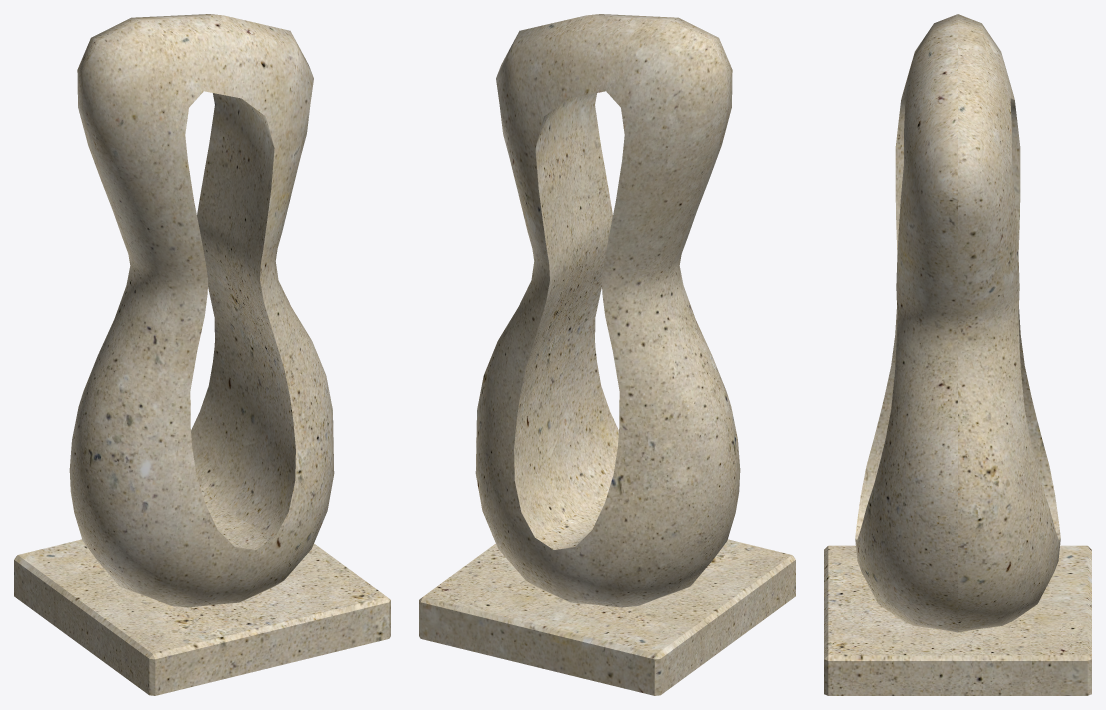
The model's file is statue_a.FBX.
The picture shows the model from 3 angles, left to right: view 1: azimuth 30°, elevation 25°; view 2: azimuth 150°, elevation 25°; view 3: azimuth 270°, elevation 25°; orthographic projection. The views are drawn at different scales.
Visible parts, largest first — view 1: statue_a; view 2: statue_a; view 3: statue_a.
Boxes of the visible parts, x1=… form: statue_a: x1=14, y1=14, x2=390, y2=695; statue_a: x1=419, y1=14, x2=795, y2=695; statue_a: x1=824, y1=14, x2=1091, y2=695.
Size of the model in its own units: 50.63 by 121 by 50.
